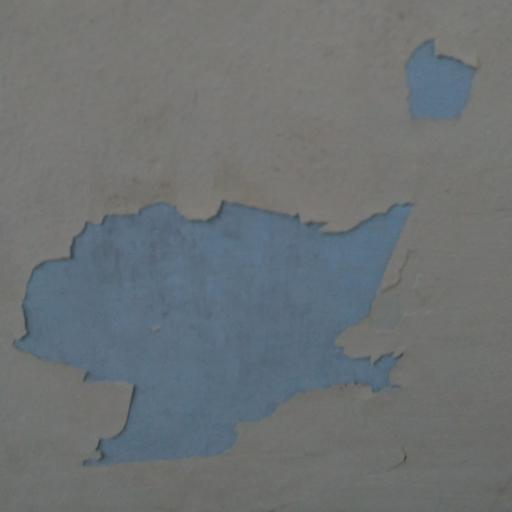peeling: (8, 175, 431, 477), (392, 34, 486, 133)
